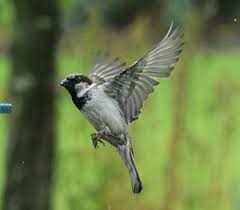hsparrow: (54, 19, 191, 198)
